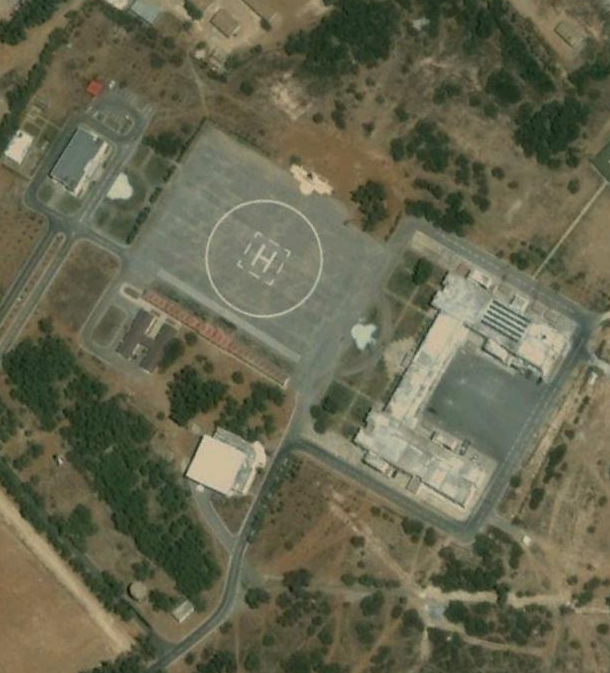heliport: (248, 241, 280, 274)
